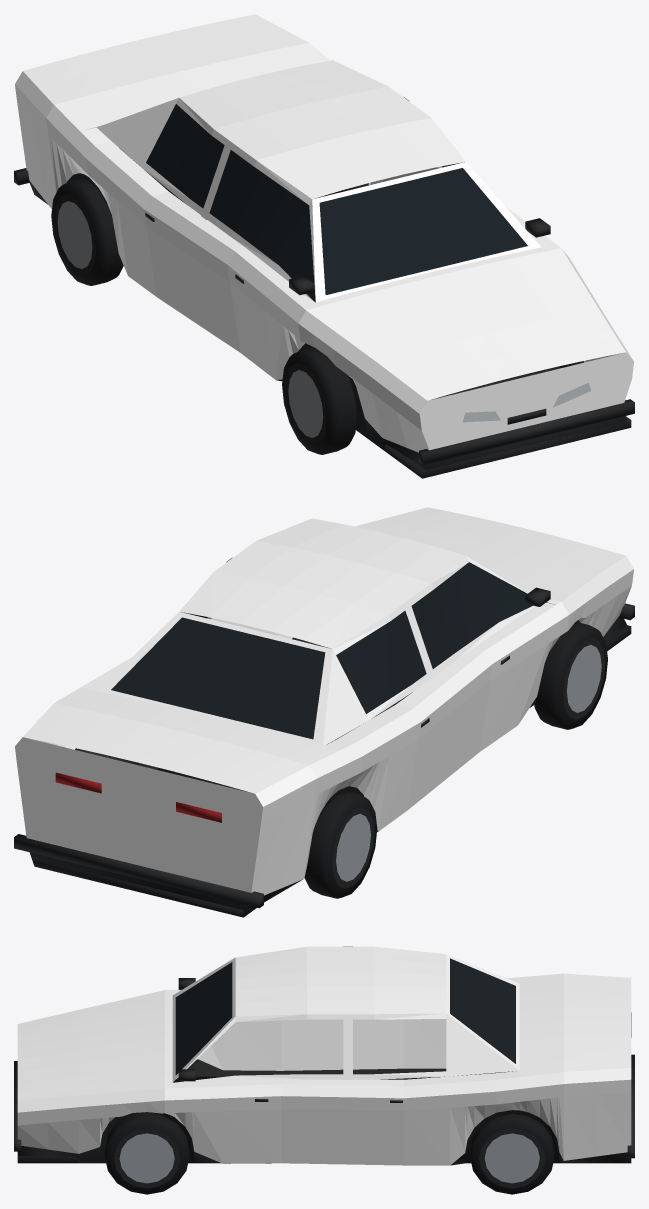
File: keldorf_borda.glb
3 renders of one model, top to bottom at view 1: azimuth 30°, elevation 25°; view 2: azimuth 150°, elevation 25°; view 3: azimuth 270°, elevation 25°, orthographic. The views are drawn at different scales.
Parts seen in each view (by area): view 1: Body_Paint, Body_Details, Mount_FrontLeft_Wheel_Details, Mount_RearLeft_Wheel_Details; view 2: Body_Paint, Body_Details, Mount_RearLeft_Wheel_Details, Mount_FrontLeft_Wheel_Details; view 3: Body_Paint, Body_Details, Mount_FrontRight_Wheel_Details, Mount_RearRight_Wheel_Details.
Part boxes in pixels (x1,y1,x2,y2): Body_Paint: (15,14,633,452); Body_Details: (14,104,634,478); Mount_FrontLeft_Wheel_Details: (282,347,357,454); Mount_RearLeft_Wheel_Details: (51,178,123,285); Body_Paint: (15,507,633,895); Body_Details: (14,562,634,917); Mount_RearLeft_Wheel_Details: (304,791,377,898); Mount_FrontLeft_Wheel_Details: (534,622,607,729); Body_Paint: (17,946,631,1165); Body_Details: (14,958,634,1165); Mount_FrontRight_Wheel_Details: (104,1112,189,1194); Mount_RearRight_Wheel_Details: (469,1113,554,1194).
Size of the model in its own units: 1.94 by 1.39 by 4.74.
Materials: 2 (1 with a texture image).
